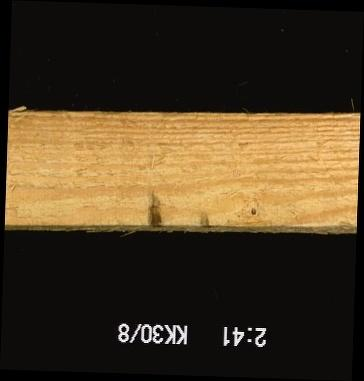small_knot: (245, 204, 260, 221)
